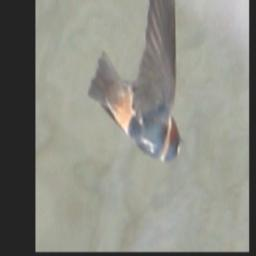Swallow: (87, 0, 184, 171)
